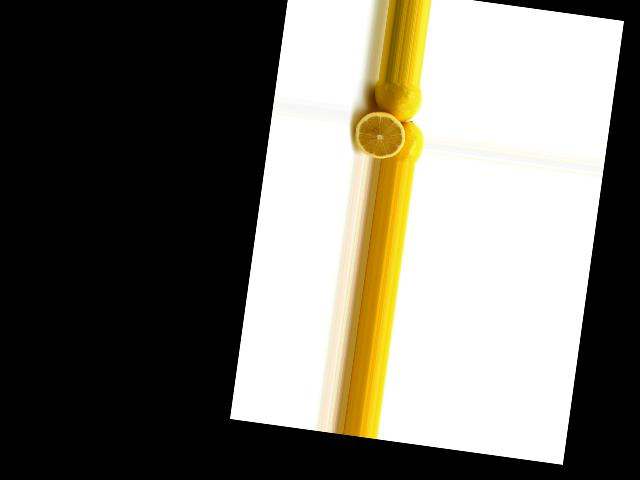lemon: (381, 111, 425, 163)
